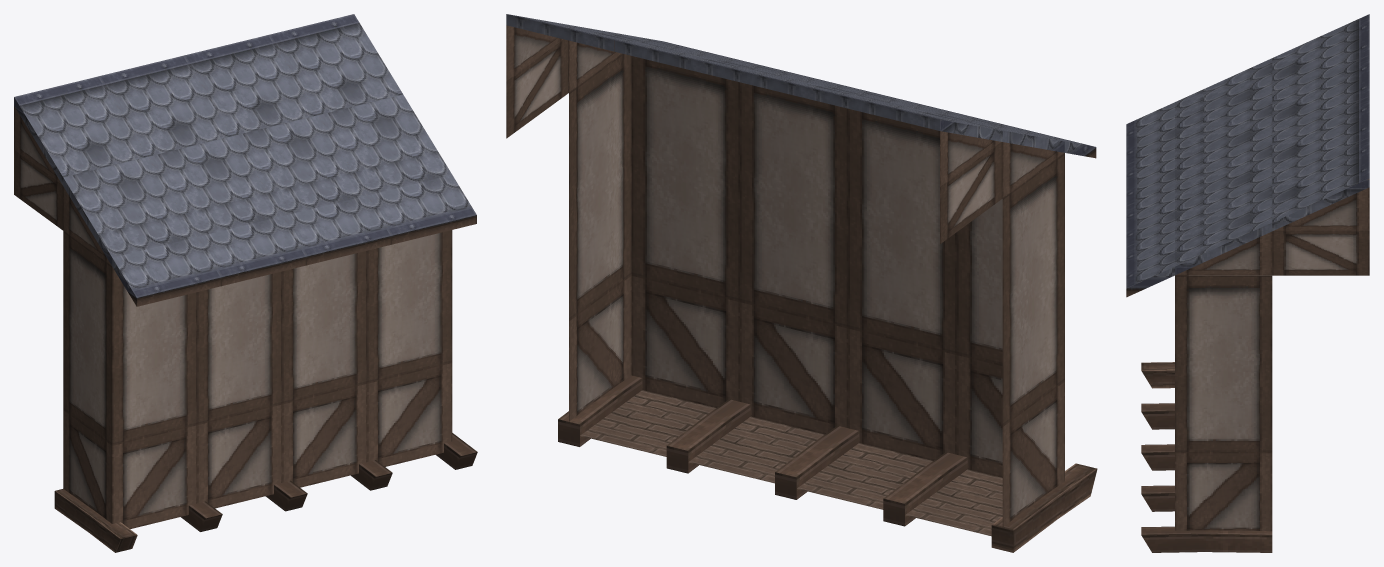
Rendered from roof_blue_stickout_large.glb.
3 renders of one model, left to right at view 1: azimuth 30°, elevation 25°; view 2: azimuth 150°, elevation 25°; view 3: azimuth 270°, elevation 25°, orthographic. The views are drawn at different scales.
Visible parts, largest first — view 1: roof_blue_stickout_large; view 2: roof_blue_stickout_large; view 3: roof_blue_stickout_large.
Part boxes in pixels (x1,y1,x2,y2): roof_blue_stickout_large: (14, 14, 477, 552); roof_blue_stickout_large: (506, 14, 1097, 552); roof_blue_stickout_large: (1126, 14, 1369, 552).
Size of the model in its own units: 4.2 by 4.2 by 2.5.
1 material, 1 textured.
